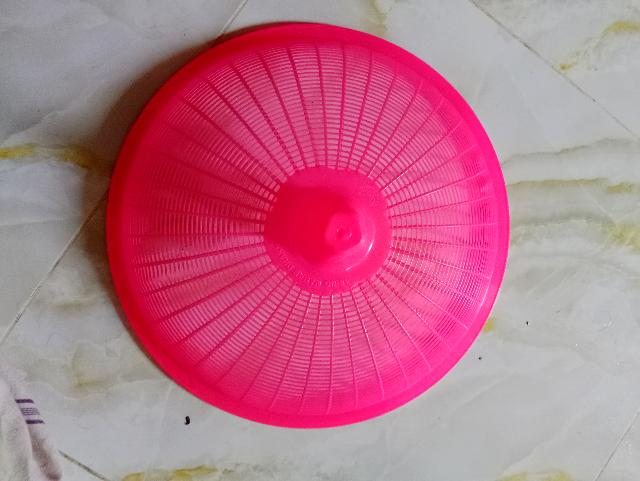hardplastic: (99, 6, 507, 442)
